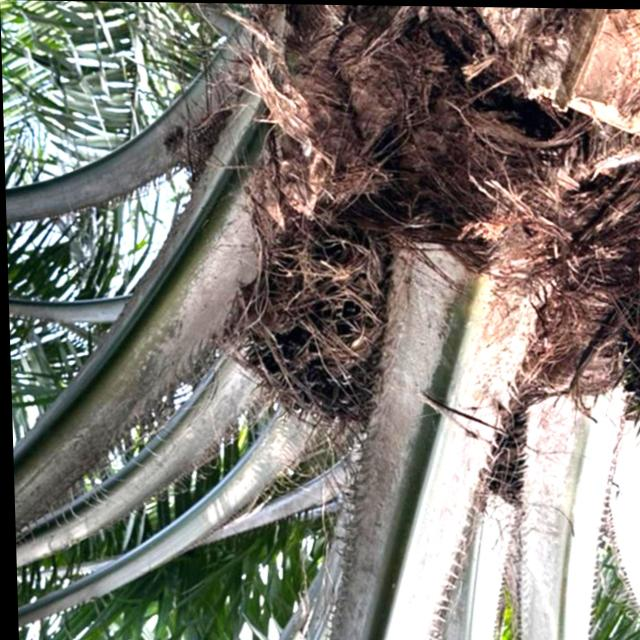unripe: (209, 191, 422, 439)
